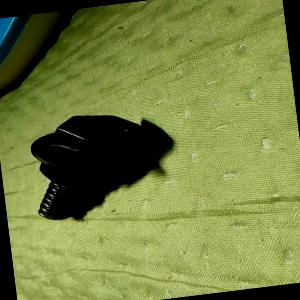parafuso: (27, 107, 154, 222)
